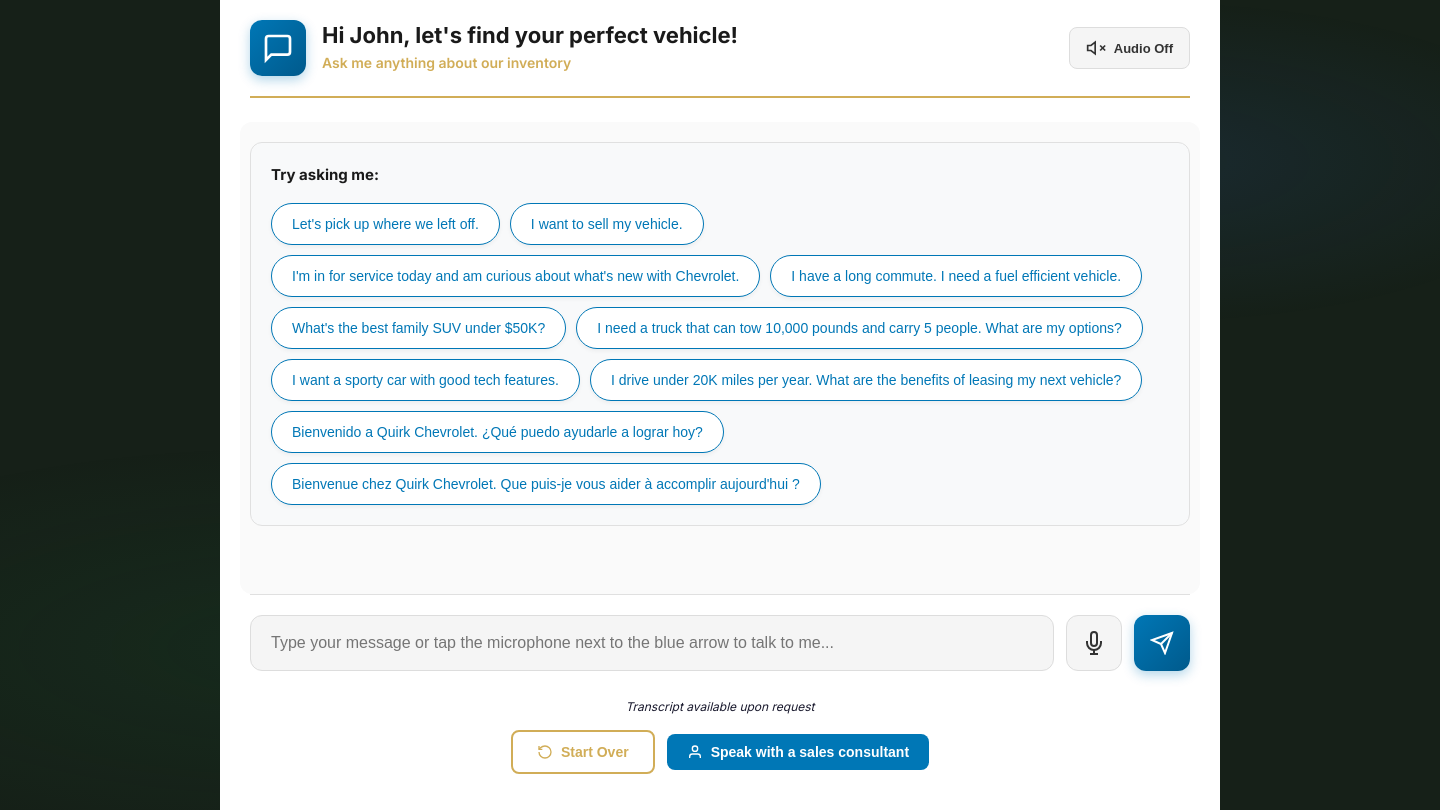
AIAssistant Component › Message Sending › displays user message in chat
Step 1. Replace the text in the field with placeholder "Type your message" with "Show me trucks" → (652, 643), box [250,615,1054,671]
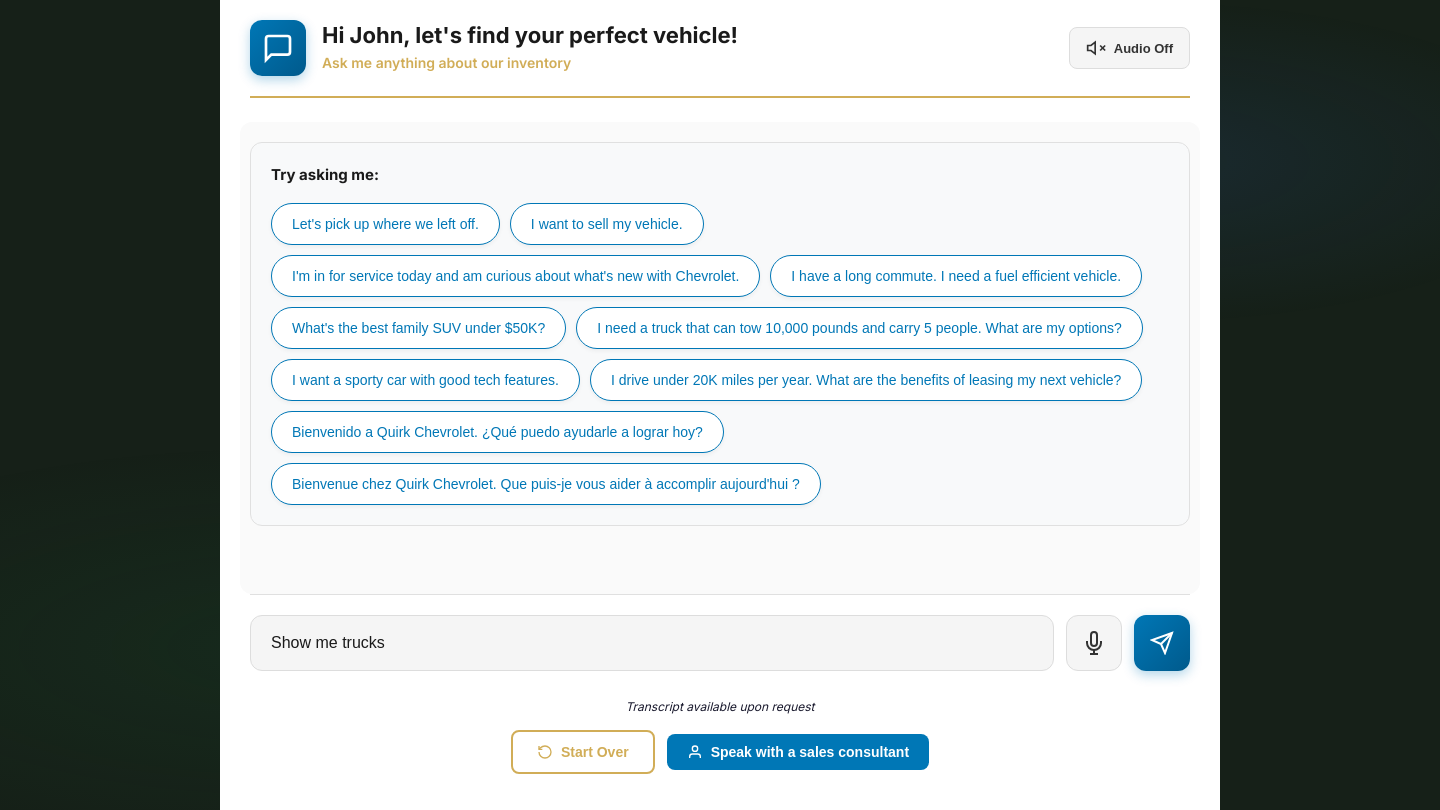
Step 2. Press Enter in the field with placeholder "Type your message", box [250,615,1054,671]
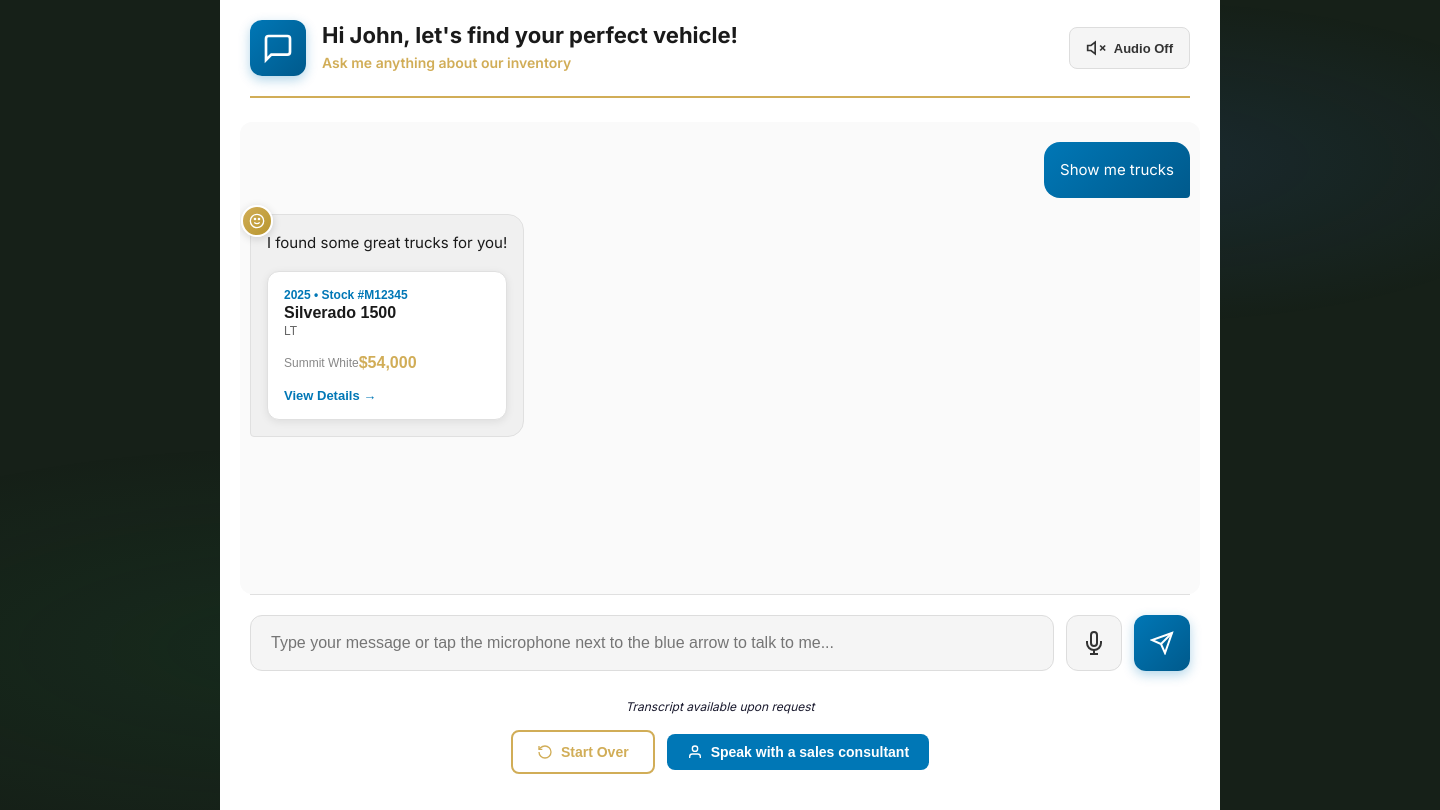
Expected: the text "Show me trucks" is shown, [1060,158,1174,182]
